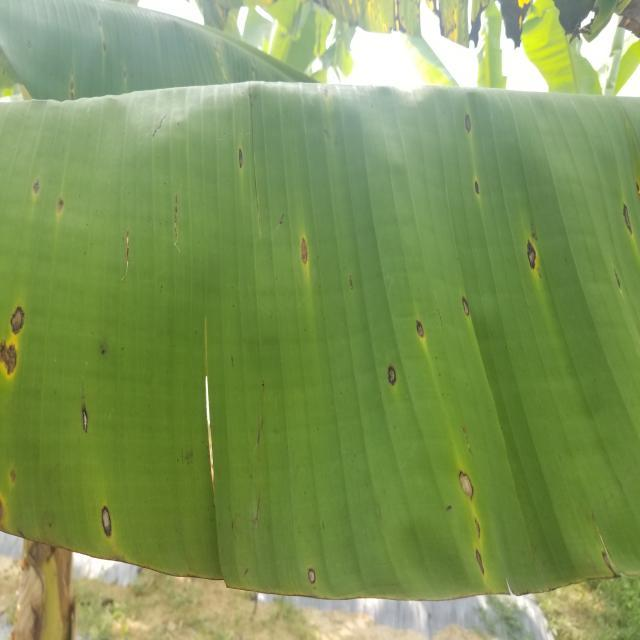Early_rust: (0, 138, 73, 388), (364, 281, 490, 394), (59, 391, 132, 569), (440, 446, 512, 608), (552, 499, 624, 612), (194, 100, 261, 196), (445, 80, 492, 210), (278, 193, 332, 298), (270, 534, 335, 619), (504, 220, 556, 287), (612, 168, 640, 258)
